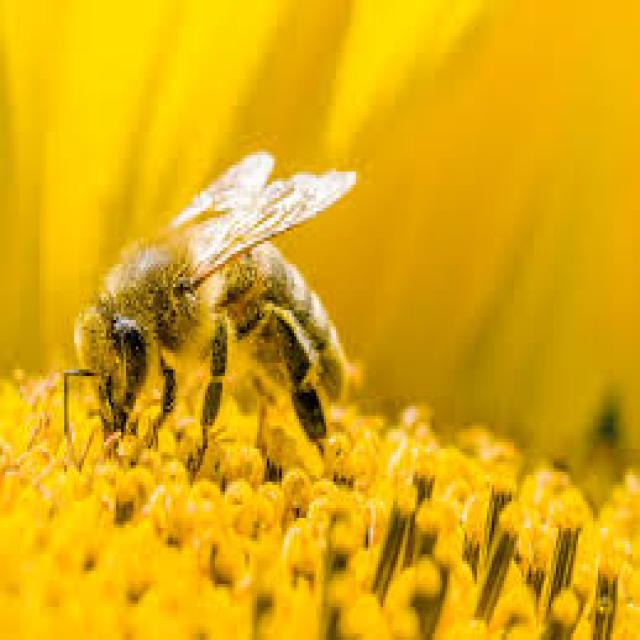Bees: (49, 140, 392, 486)
